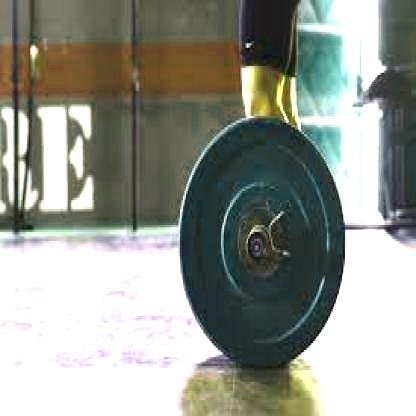Barbell: (247, 230, 271, 269)
